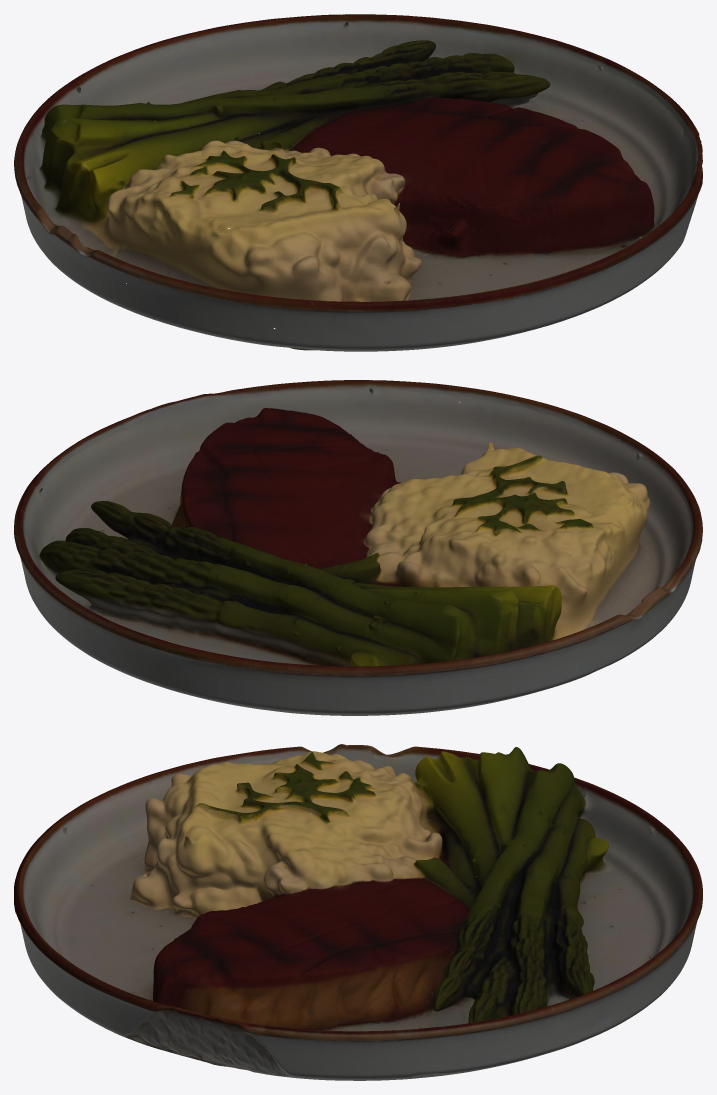
Rendered from plat2-v1.glb.
3 views of the same model, one above another, from view 1: azimuth 30°, elevation 25°; view 2: azimuth 150°, elevation 25°; view 3: azimuth 270°, elevation 25° (orthographic).
Parts seen in each view (by area): view 1: tripo_node_a35eece2-91e3-4d3b-acff-06b92064de63; view 2: tripo_node_a35eece2-91e3-4d3b-acff-06b92064de63; view 3: tripo_node_a35eece2-91e3-4d3b-acff-06b92064de63.
Boxes of the visible parts, bbox=[...] form: tripo_node_a35eece2-91e3-4d3b-acff-06b92064de63: bbox=[14, 14, 702, 351]; tripo_node_a35eece2-91e3-4d3b-acff-06b92064de63: bbox=[14, 380, 702, 715]; tripo_node_a35eece2-91e3-4d3b-acff-06b92064de63: bbox=[14, 744, 702, 1080].
Bounding box in the file's own units: 1 × 0.2048 × 0.9999.
1 material, 1 textured.
